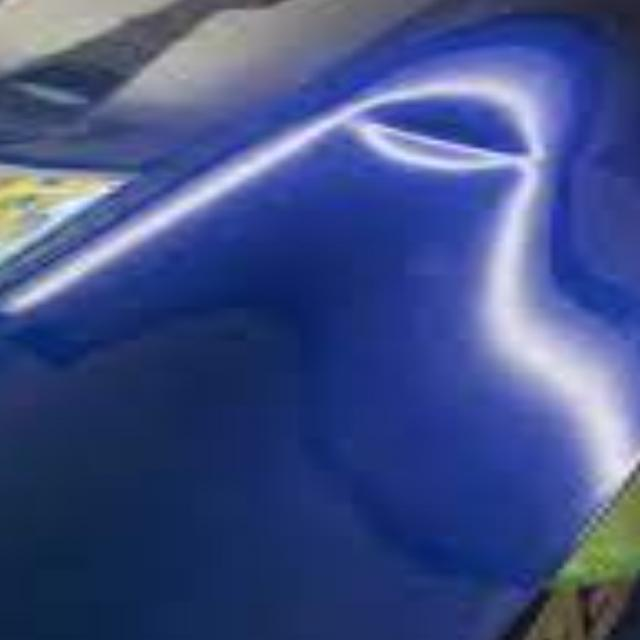dents: (364, 80, 570, 182)
